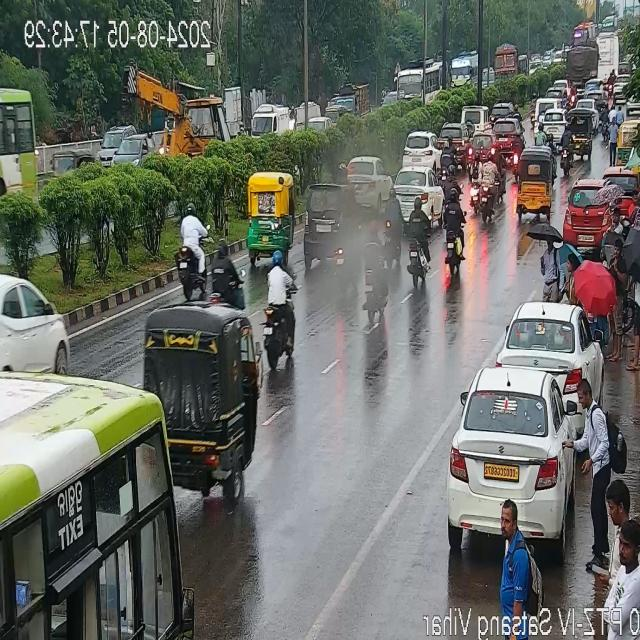2-wheelers: (266, 250, 296, 370), (177, 202, 210, 302), (194, 246, 242, 306), (440, 184, 470, 276), (406, 203, 434, 290), (364, 222, 388, 322), (337, 202, 363, 280), (386, 188, 402, 271), (482, 153, 496, 225), (556, 119, 571, 176), (472, 149, 480, 223), (442, 134, 456, 172), (496, 144, 504, 204), (512, 132, 522, 178), (600, 104, 609, 138), (549, 132, 555, 182), (288, 106, 296, 132), (530, 92, 536, 126), (536, 123, 546, 143), (608, 70, 614, 102), (339, 164, 347, 182), (570, 86, 576, 110), (238, 118, 245, 138), (380, 87, 386, 106)
auto: (138, 308, 252, 498), (246, 171, 298, 256), (514, 148, 554, 222), (51, 144, 96, 183), (327, 104, 347, 122)
bus: (0, 361, 174, 640), (0, 90, 36, 210), (450, 49, 476, 91)
car: (443, 367, 592, 543), (497, 304, 597, 392), (0, 276, 68, 376), (560, 183, 626, 245), (304, 180, 340, 268), (392, 166, 444, 218), (350, 154, 390, 207), (436, 122, 472, 164), (402, 130, 442, 166), (96, 119, 128, 159), (112, 132, 150, 162), (458, 104, 494, 134), (492, 118, 523, 148), (533, 94, 555, 135), (544, 106, 562, 146), (468, 130, 492, 156), (492, 96, 512, 122), (541, 85, 563, 98), (552, 78, 568, 92)
pedestrian: (574, 382, 620, 530), (491, 498, 543, 608), (588, 534, 640, 620), (610, 242, 626, 358), (541, 227, 559, 301), (631, 225, 640, 372), (604, 484, 630, 534), (563, 256, 576, 304), (608, 116, 618, 164), (610, 202, 622, 230), (631, 188, 640, 214), (617, 105, 623, 123)
truck: (128, 70, 228, 158), (390, 64, 444, 106), (250, 106, 296, 142), (492, 40, 528, 81), (338, 84, 370, 116)
